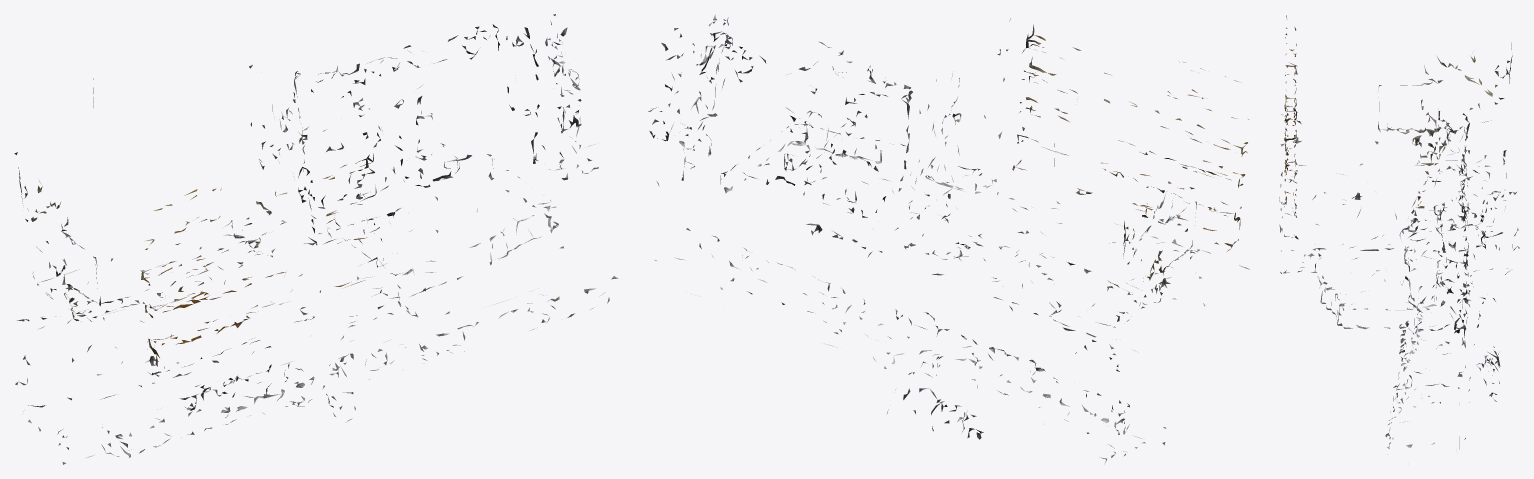
The picture shows the model from 3 angles, left to right: view 1: azimuth 30°, elevation 25°; view 2: azimuth 150°, elevation 25°; view 3: azimuth 270°, elevation 25°; orthographic projection. The views are drawn at different scales.
Size of the model in its own units: 11.72 by 7.36 by 5.23.
1 material, 1 textured.
